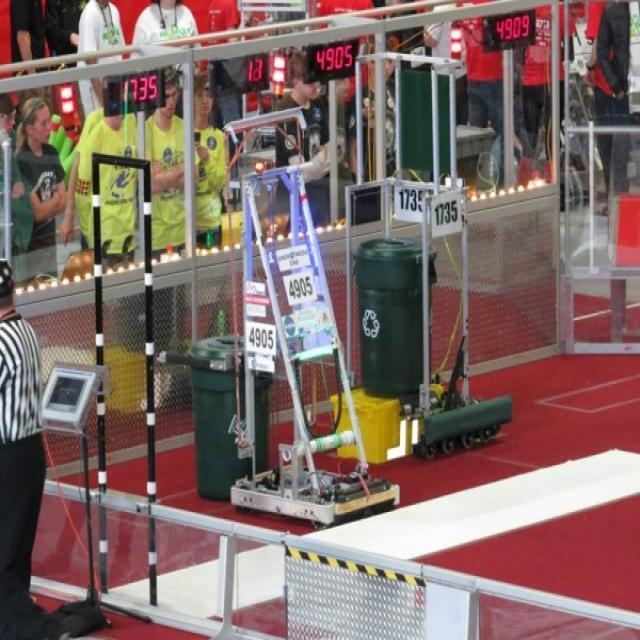robot: (218, 146, 405, 540), (364, 41, 525, 457)
